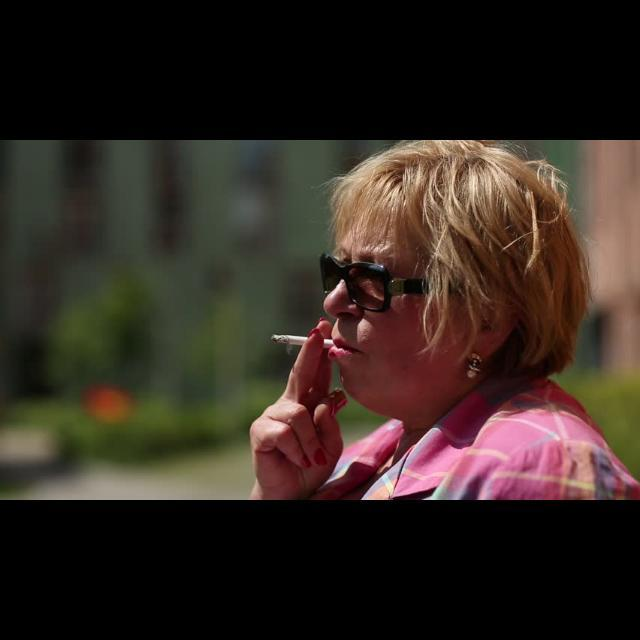rokok: (272, 327, 336, 353)
